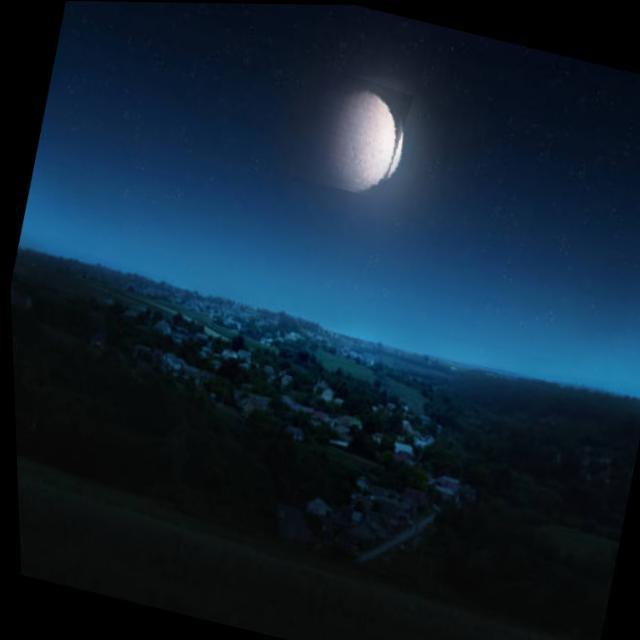moon: (273, 56, 418, 200)
